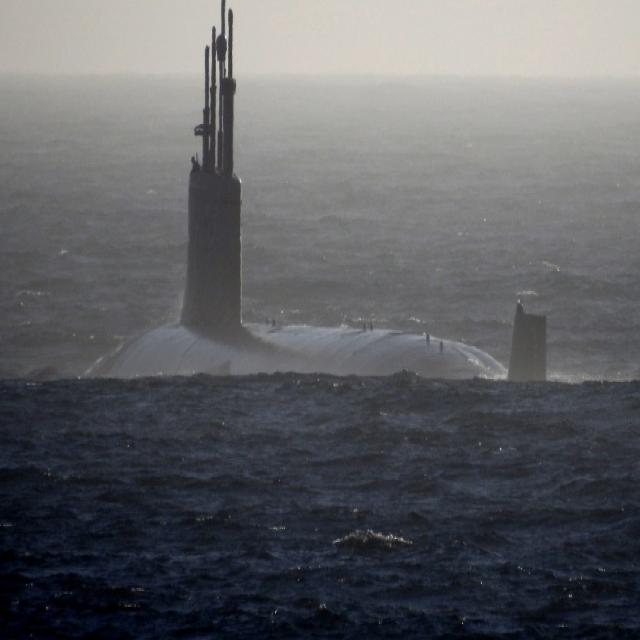submarine: (76, 1, 557, 384)
